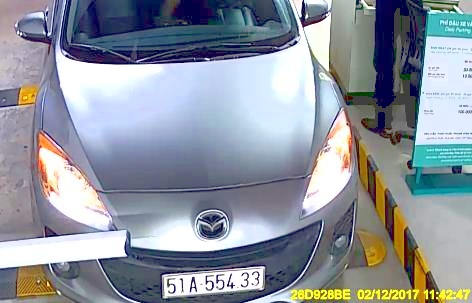plate: (159, 266, 269, 295)
